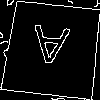A: (27, 24, 71, 74)
